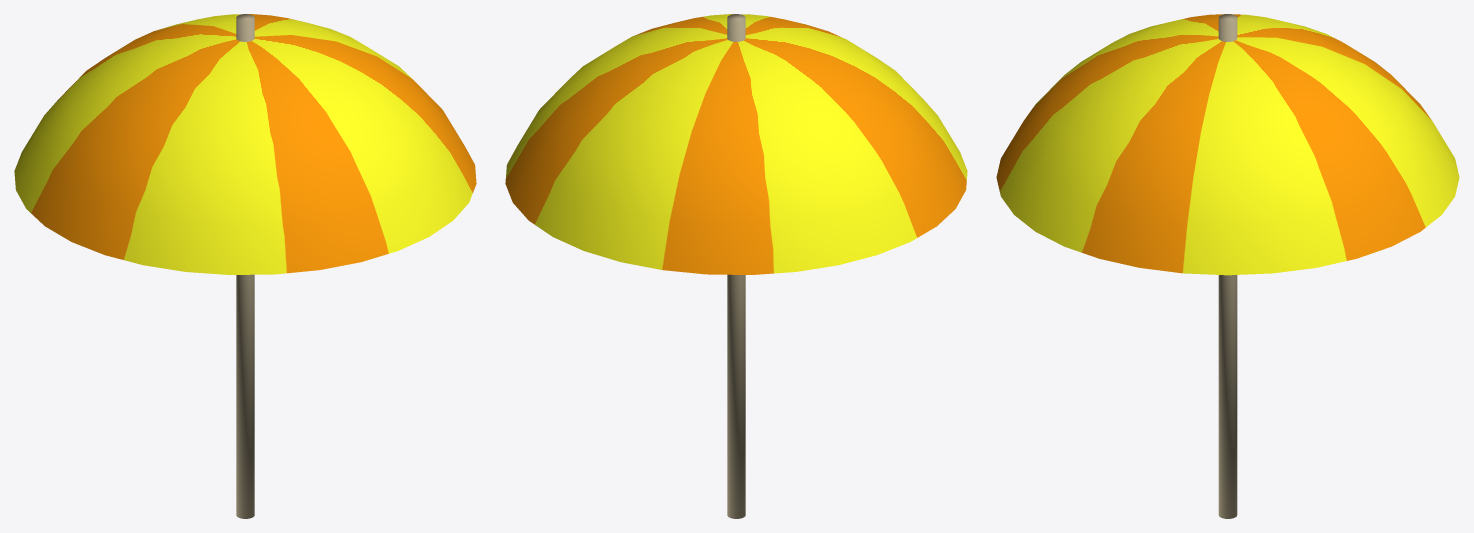
Rendered from umbrella.fbx.
3 views of the same model, side by side, from view 1: azimuth 30°, elevation 25°; view 2: azimuth 150°, elevation 25°; view 3: azimuth 270°, elevation 25° (orthographic).
Parts seen in each view (by area): view 1: Umbrella; view 2: Umbrella; view 3: Umbrella.
Boxes of the visible parts, left/top/right/bottom form: Umbrella: left=14, top=14, right=476, bottom=518; Umbrella: left=505, top=14, right=967, bottom=518; Umbrella: left=996, top=14, right=1459, bottom=518.
Bounding box in the file's own units: 185 × 219 × 185.
Materials: 2 (1 with a texture image).
